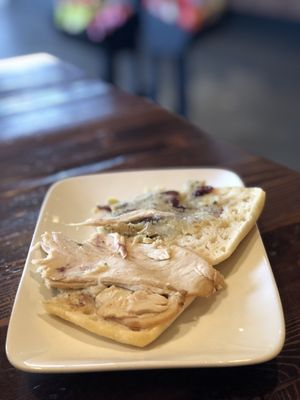curry: (1, 131, 298, 398)
sandwich: (26, 175, 269, 348)
